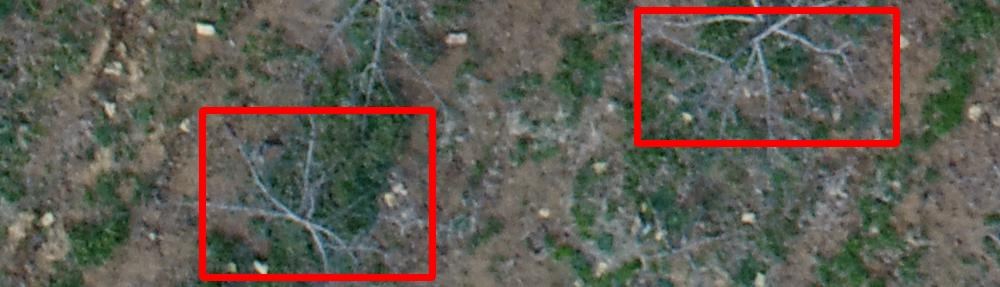apple: (202, 110, 432, 277), (637, 10, 896, 143)
